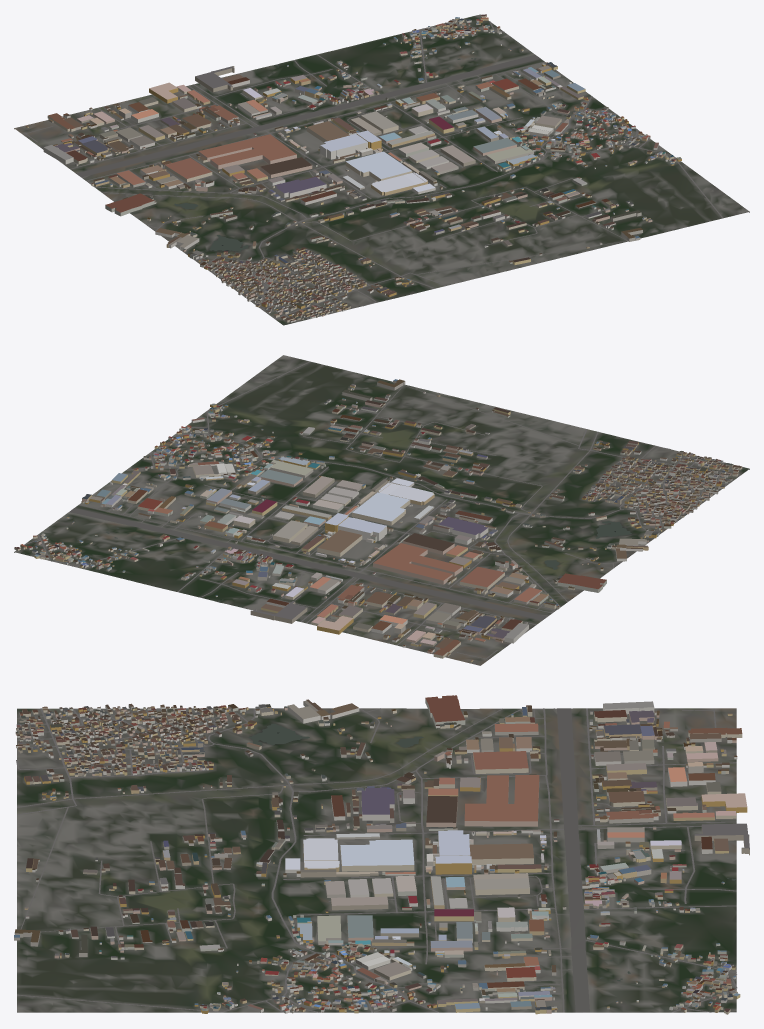
3 renders of one model, top to bottom at view 1: azimuth 30°, elevation 25°; view 2: azimuth 150°, elevation 25°; view 3: azimuth 270°, elevation 25°, orthographic. The views are drawn at different scales.
Parts seen in each view (by area): view 1: ground, buildings, roads, water; view 2: ground, buildings, roads, water; view 3: ground, buildings, roads, water.
Part boxes in pixels (x1,y1,x2,y2): ground: (14,14,749,325); buildings: (25,14,681,322); roads: (22,21,723,321); water: (174,58,479,251); ground: (14,355,749,665); buildings: (14,379,742,662); roads: (24,361,740,659); water: (106,521,631,601); ground: (17,708,736,1012); buildings: (14,695,749,1014); roads: (16,708,737,1012); water: (248,723,735,981).
Bounding box in the file's own units: 1450 × 27.71 × 1434.
